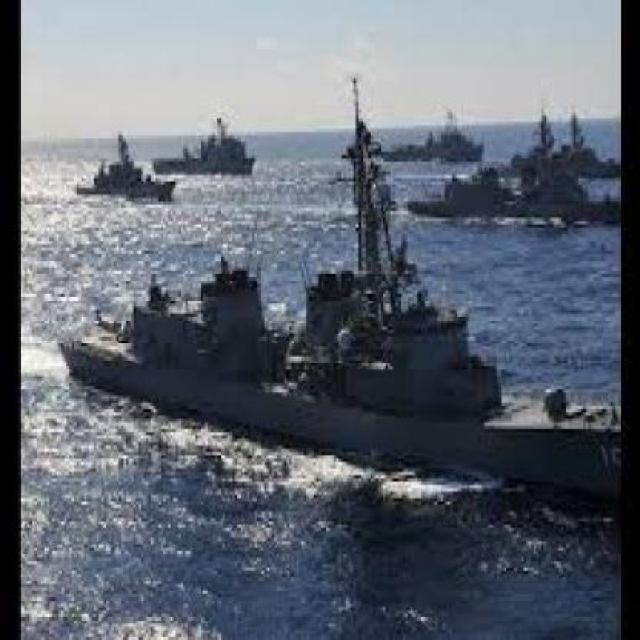warship2: (66, 109, 629, 542)
